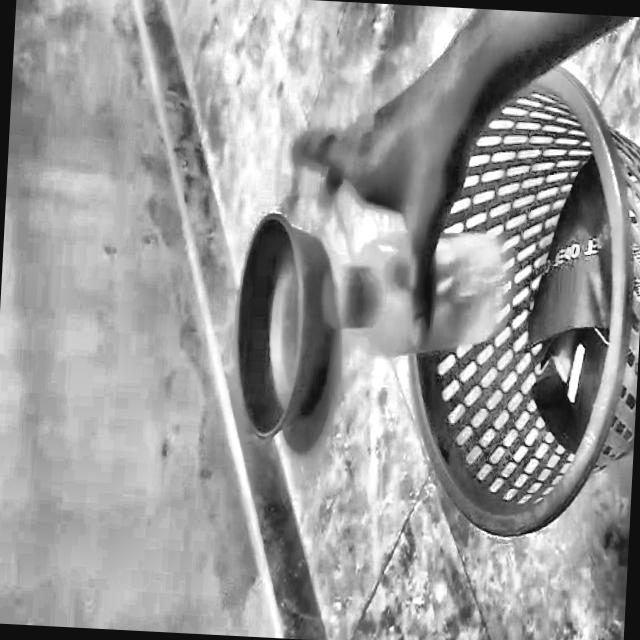Dustbin: (391, 47, 640, 589), (335, 242, 521, 374)
Plastic-Bottle: (404, 84, 616, 544)
